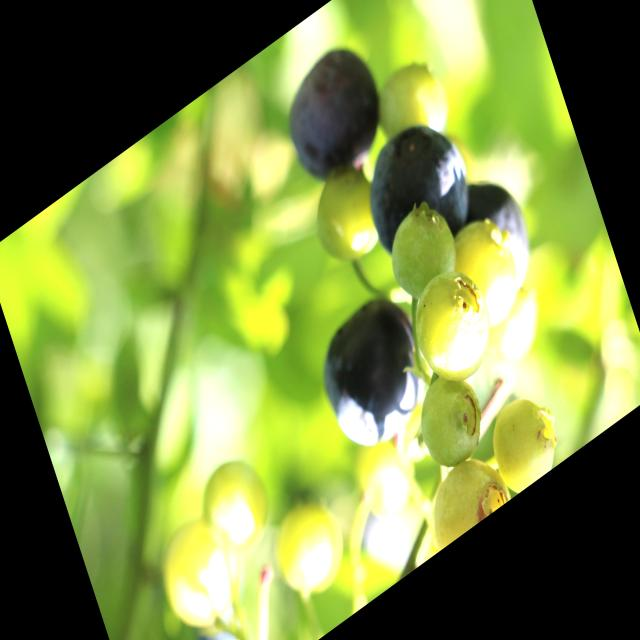blueberry: (301, 267, 440, 473), (352, 89, 494, 290), (271, 27, 397, 208), (446, 154, 545, 321)
blueberry-unripe: (403, 253, 502, 404), (152, 508, 242, 640), (445, 198, 527, 336), (266, 489, 350, 614), (409, 358, 493, 480), (418, 445, 510, 554), (304, 156, 384, 277), (483, 384, 564, 499), (384, 193, 465, 307), (199, 449, 276, 568)
